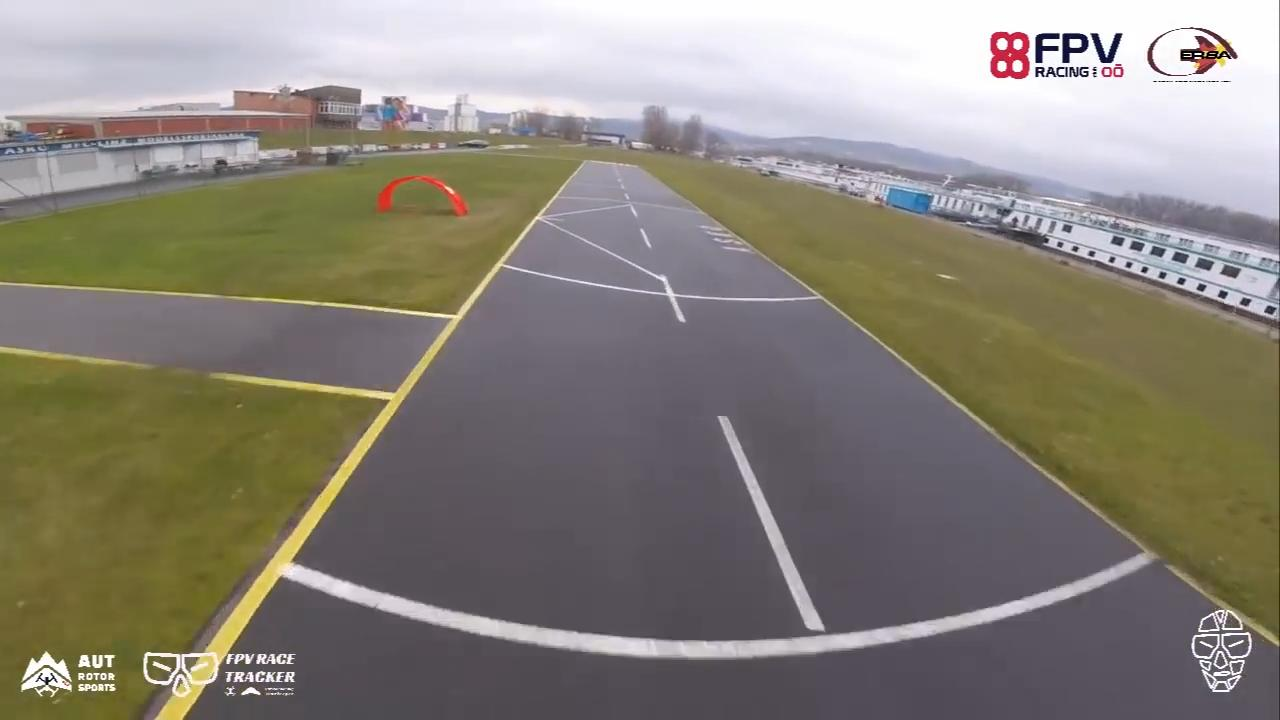gate: (376, 173, 466, 221)
